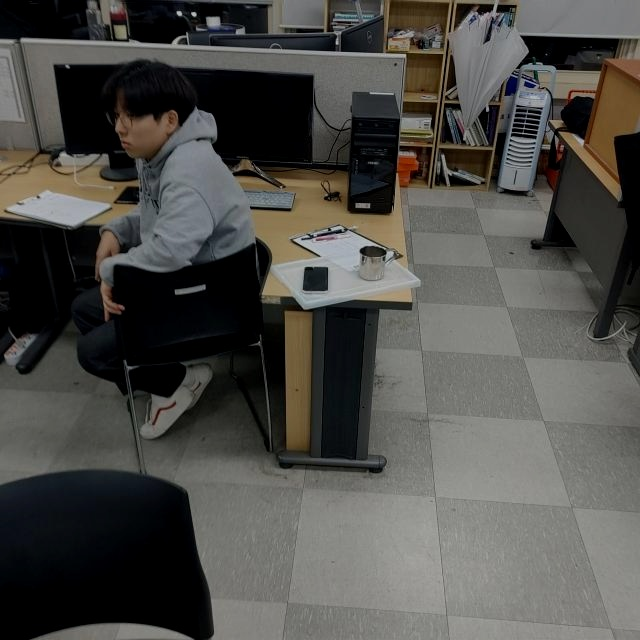cup: (356, 244, 399, 281)
phone: (301, 263, 329, 295)
